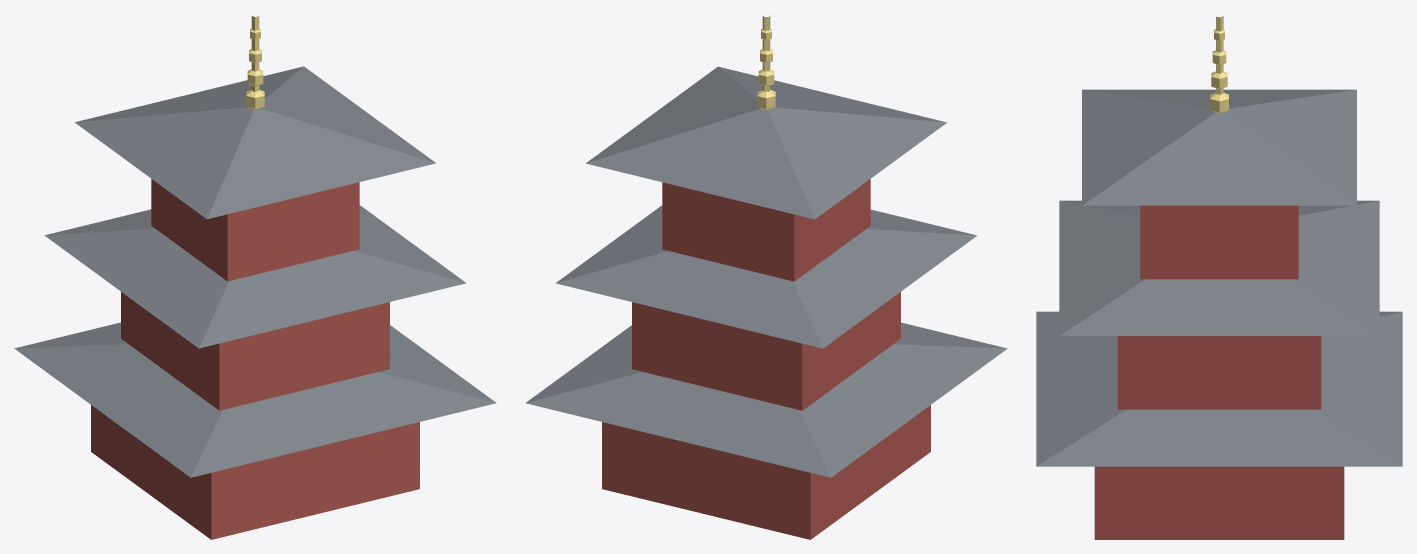
File: pagoda_three_tier.glb
3 views of the same model, side by side, from view 1: azimuth 30°, elevation 25°; view 2: azimuth 150°, elevation 25°; view 3: azimuth 270°, elevation 25° (orthographic). The views are drawn at different scales.
Parts seen in each view (by area): view 1: pagoda_three_tier; view 2: pagoda_three_tier; view 3: pagoda_three_tier.
Part boxes in pixels (bbox=[...]): pagoda_three_tier: bbox=[14, 16, 496, 539]; pagoda_three_tier: bbox=[525, 15, 1007, 539]; pagoda_three_tier: bbox=[1036, 16, 1402, 539].
Size of the model in its own units: 8.8 by 12.5 by 8.8.
